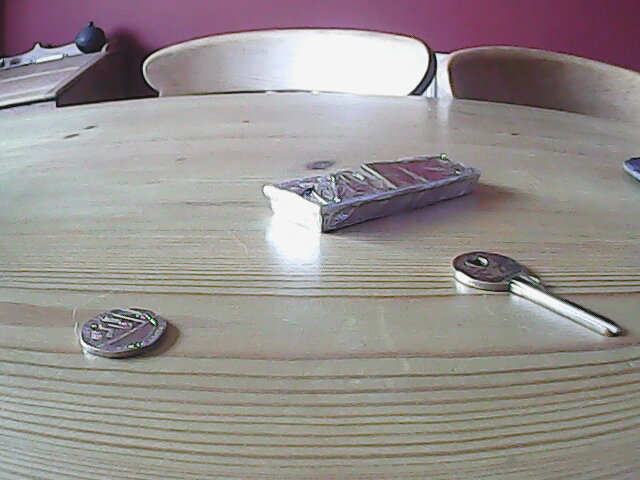Coin: (79, 306, 174, 361)
Foil: (263, 152, 483, 235)
Key: (447, 250, 626, 342)
